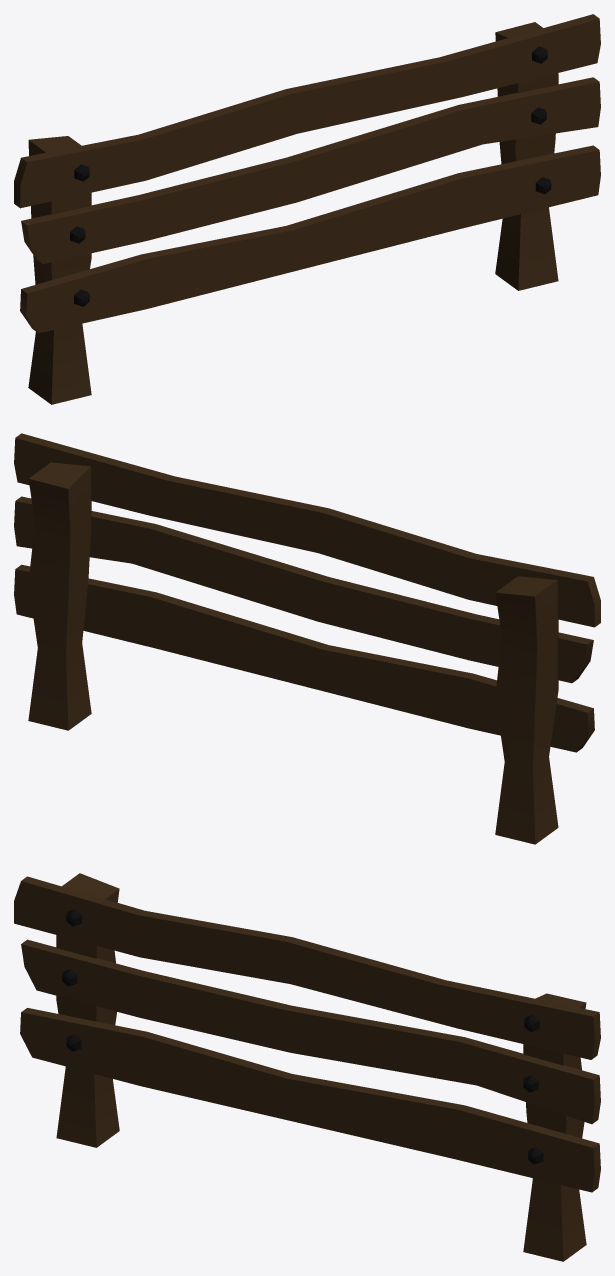
Rendered from low_polyFence.fbx.
3 renders of one model, top to bottom at view 1: azimuth 30°, elevation 25°; view 2: azimuth 150°, elevation 25°; view 3: azimuth 330°, elevation 25°, orthographic.
Parts seen in each view (by area): view 1: pCube3, pCube1, pCube2, pCube4, pCube5; view 2: pCube1, pCube3, pCube2, pCube4, pCube5; view 3: pCube3, pCube1, pCube2, pCube4, pCube5.
Boxes of the visible parts, x1,y1,x2,y2 form: pCube3: [20, 145, 600, 333]; pCube1: [14, 14, 600, 208]; pCube2: [21, 77, 600, 263]; pCube4: [28, 136, 91, 404]; pCube5: [495, 22, 558, 290]; pCube1: [14, 433, 600, 627]; pCube3: [14, 564, 594, 752]; pCube2: [14, 496, 593, 683]; pCube4: [495, 576, 558, 844]; pCube5: [28, 462, 91, 730]; pCube3: [20, 1008, 600, 1192]; pCube1: [14, 876, 600, 1059]; pCube2: [21, 939, 600, 1124]; pCube4: [56, 873, 119, 1147]; pCube5: [523, 993, 586, 1261].
Size of the model in its own units: 351 by 35.2 by 149.
